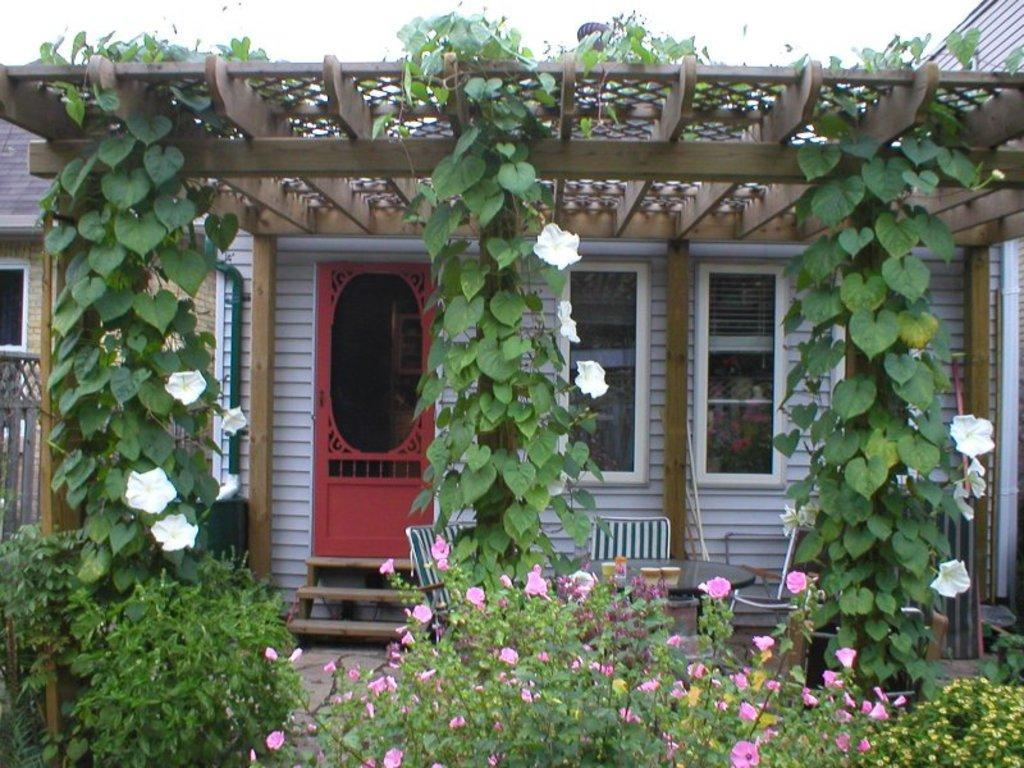door: (318, 273, 422, 560)
